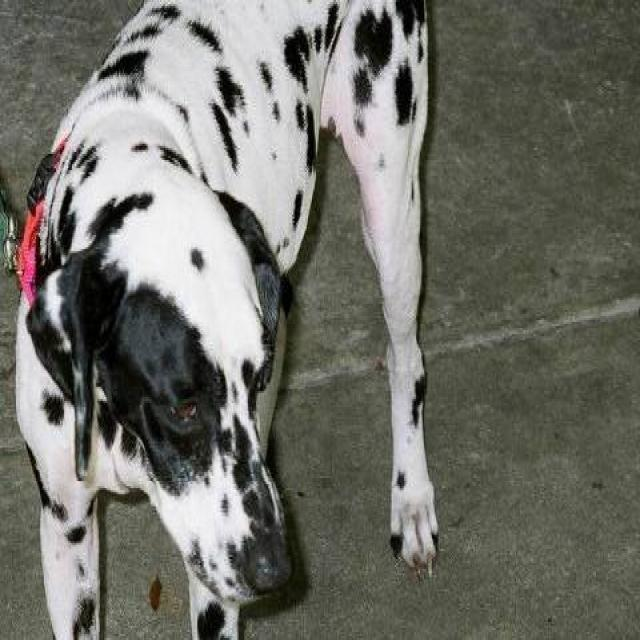dog: (3, 0, 440, 638)
